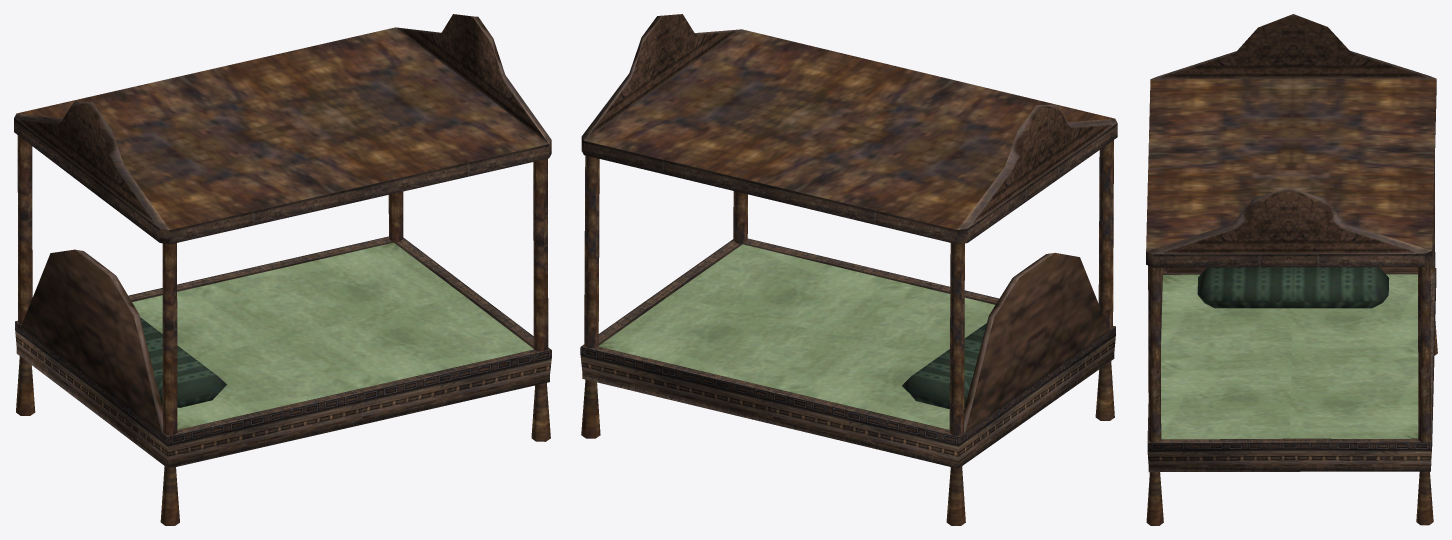
File: d_emc_shouyou_chuang02_qt.FBX
The picture shows the model from 3 angles, left to right: view 1: azimuth 30°, elevation 25°; view 2: azimuth 150°, elevation 25°; view 3: azimuth 270°, elevation 25°; orthographic projection. The views are drawn at different scales.
Parts seen in each view (by area): view 1: d_emc_shouyou_chuang02_qt; view 2: d_emc_shouyou_chuang02_qt; view 3: d_emc_shouyou_chuang02_qt.
Part boxes in pixels (x1,y1,x2,y2): d_emc_shouyou_chuang02_qt: (14, 14, 551, 525); d_emc_shouyou_chuang02_qt: (580, 14, 1117, 525); d_emc_shouyou_chuang02_qt: (1146, 14, 1437, 525).
Size of the model in its own units: 240 by 218 by 169.
